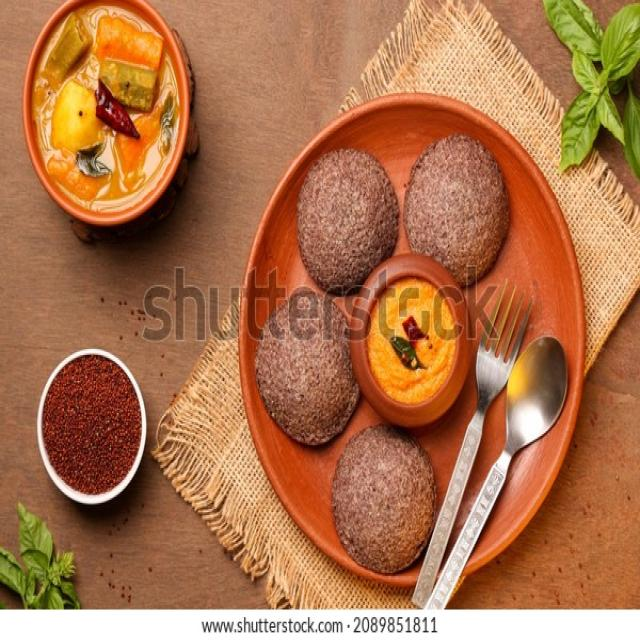IDLI: (407, 134, 511, 291), (262, 292, 367, 444), (328, 430, 437, 573), (299, 147, 402, 292)
